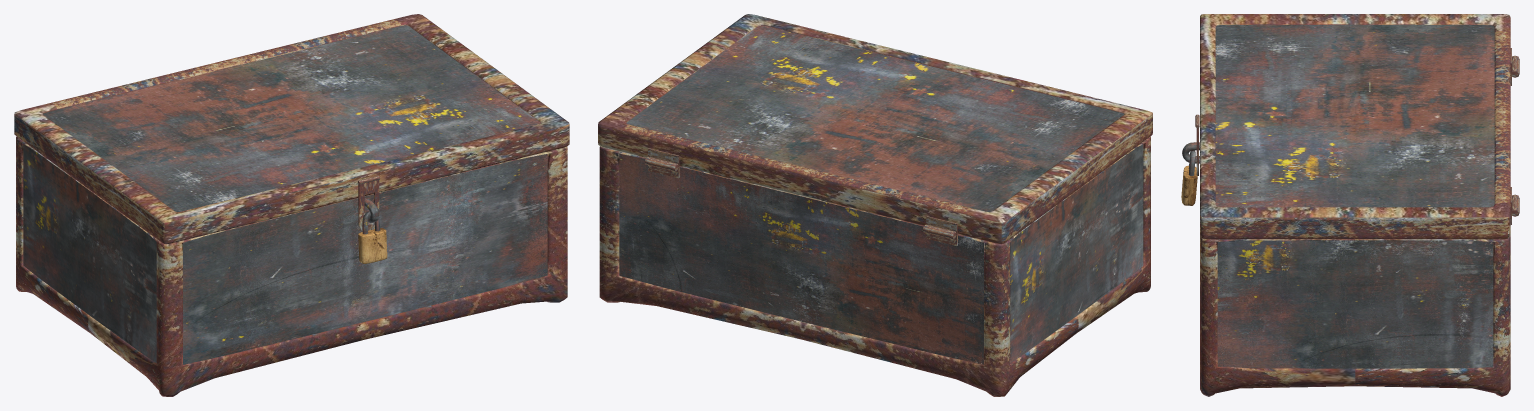
3 renders of one model, left to right at view 1: azimuth 30°, elevation 25°; view 2: azimuth 150°, elevation 25°; view 3: azimuth 270°, elevation 25°, orthographic. The views are drawn at different scales.
Parts seen in each view (by area): view 1: Object_4, Object_3, Object_2; view 2: Object_4, Object_3; view 3: Object_4, Object_3, Object_2.
Boxes of the visible parts, bbox=[...] form: Object_4: bbox=[23, 25, 547, 364]; Object_3: bbox=[14, 14, 569, 396]; Object_2: bbox=[358, 228, 387, 263]; Object_4: bbox=[619, 25, 1143, 364]; Object_3: bbox=[598, 14, 1152, 396]; Object_4: bbox=[1182, 25, 1494, 368]; Object_3: bbox=[1195, 14, 1519, 396]; Object_2: bbox=[1181, 165, 1197, 205].
Bounding box in the file's own units: 4.12 × 1.73 × 2.89.
Materials: 3 (3 with a texture image).
